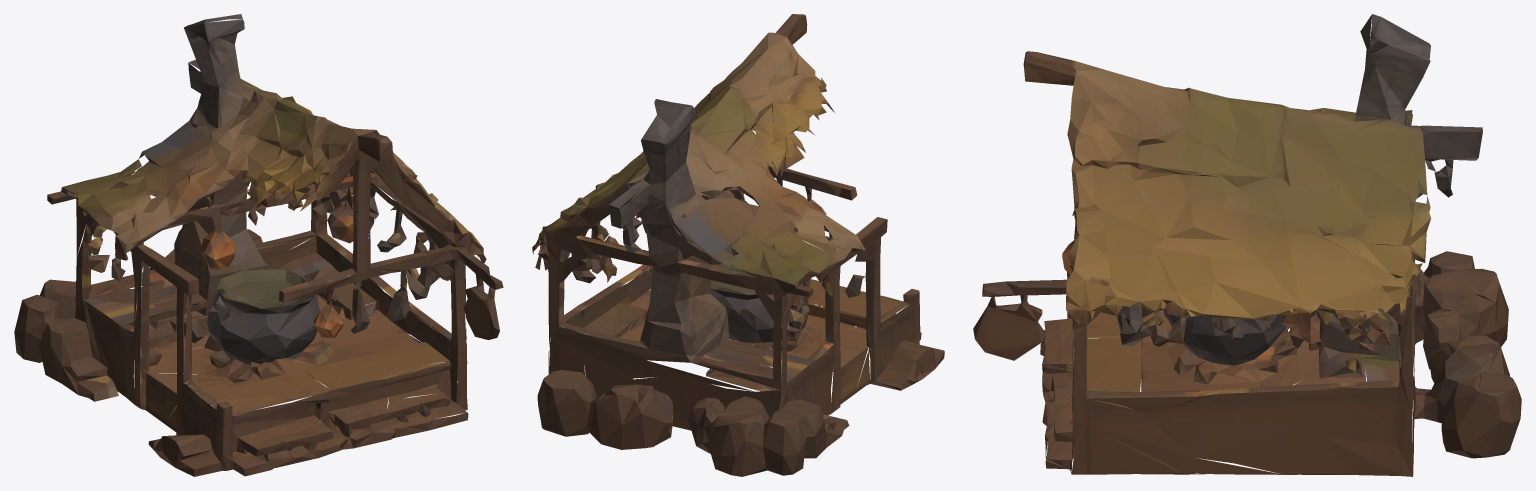
File: tavern.glb
3 renders of one model, left to right at view 1: azimuth 30°, elevation 25°; view 2: azimuth 150°, elevation 25°; view 3: azimuth 270°, elevation 25°, orthographic. The views are drawn at different scales.
Parts seen in each view (by area): view 1: geometry_0; view 2: geometry_0; view 3: geometry_0.
Part boxes in pixels (x1=…): geometry_0: x1=14, y1=14, x2=503, y2=476; geometry_0: x1=532, y1=14, x2=944, y2=476; geometry_0: x1=973, y1=14, x2=1521, y2=476.
Bounding box in the file's own units: 3.93 × 3.88 × 5.
1 material, 1 textured.
